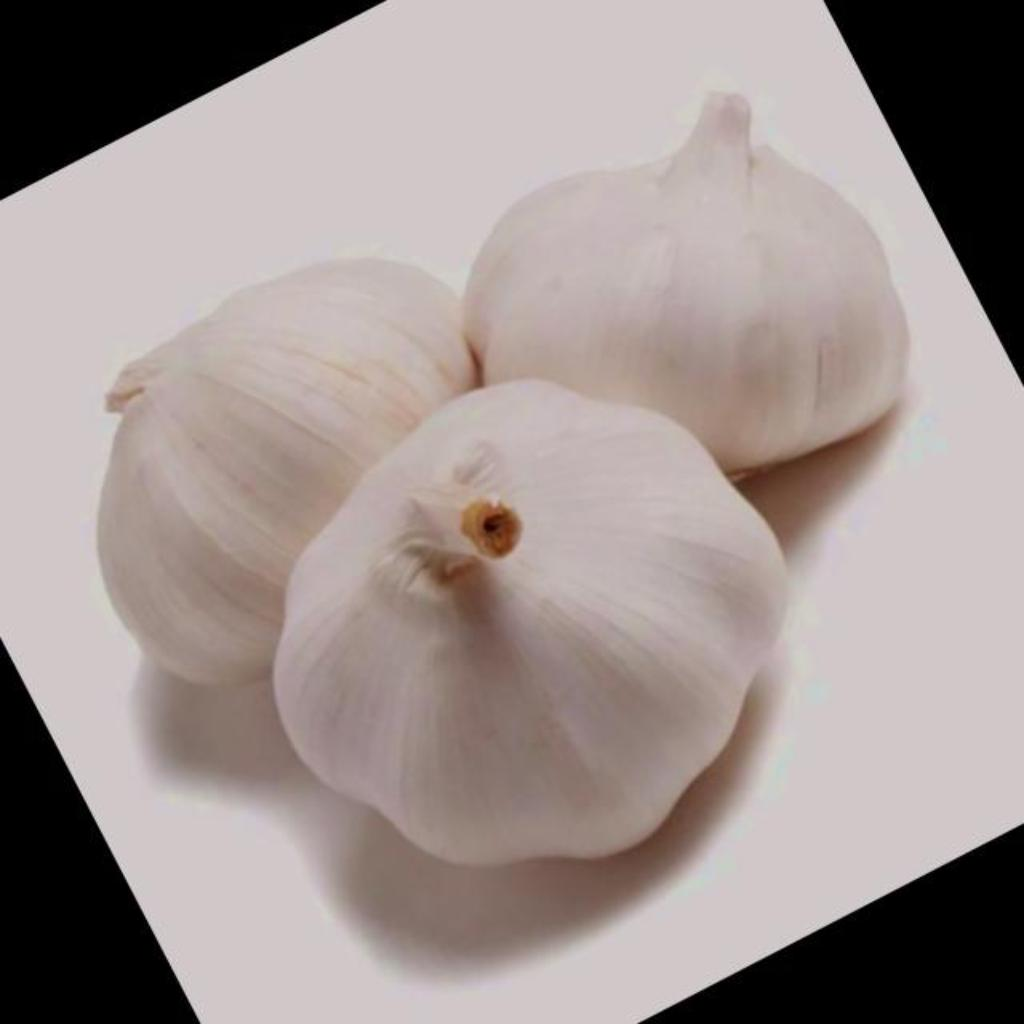garlic: (272, 380, 786, 864), (464, 94, 908, 472), (98, 260, 474, 683)
